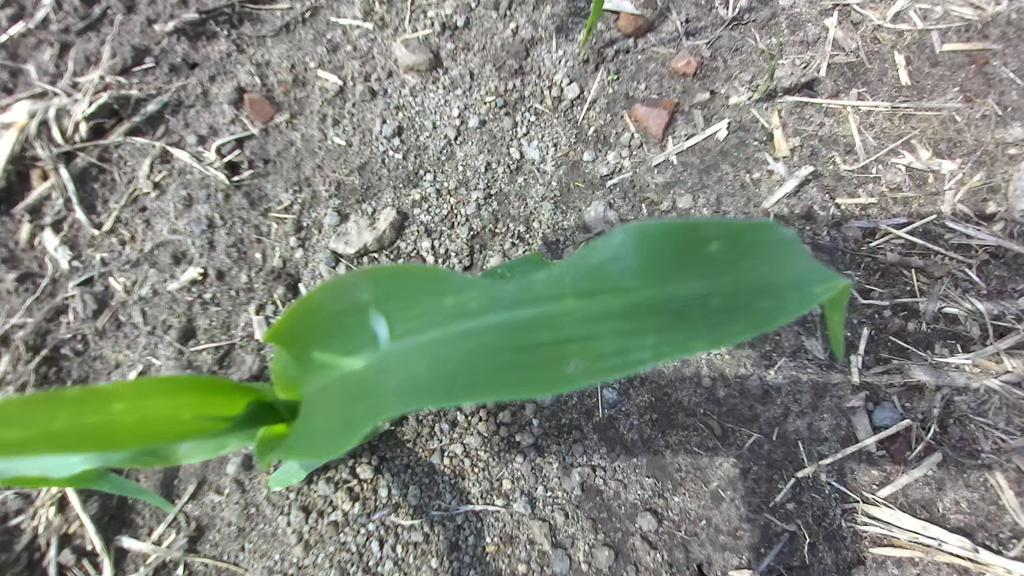BroWeed: (326, 498, 356, 523), (478, 537, 500, 563), (759, 62, 776, 94), (175, 557, 190, 576), (607, 74, 619, 81)
Maize: (0, 162, 871, 550)
